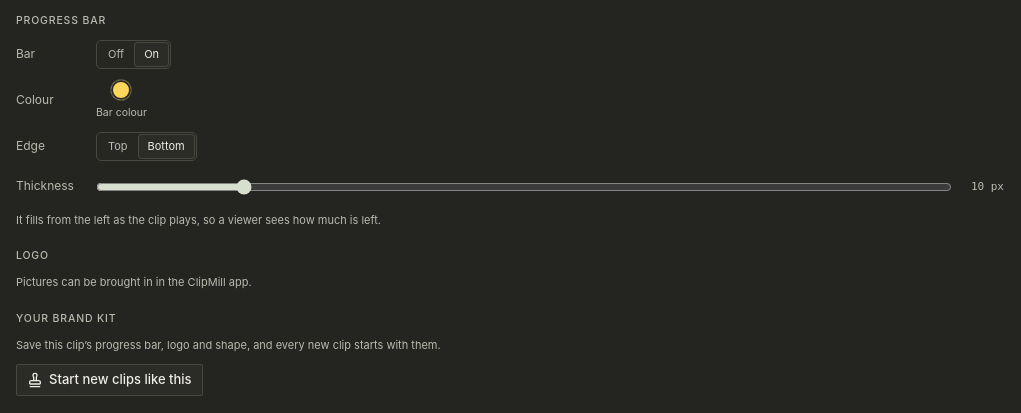
it: the Brand tab › saves the clip’s brand and shape as the kit for new clips
Click the button "Start new clips like this" at (109, 380), box left=16, top=364, right=203, bottom=396
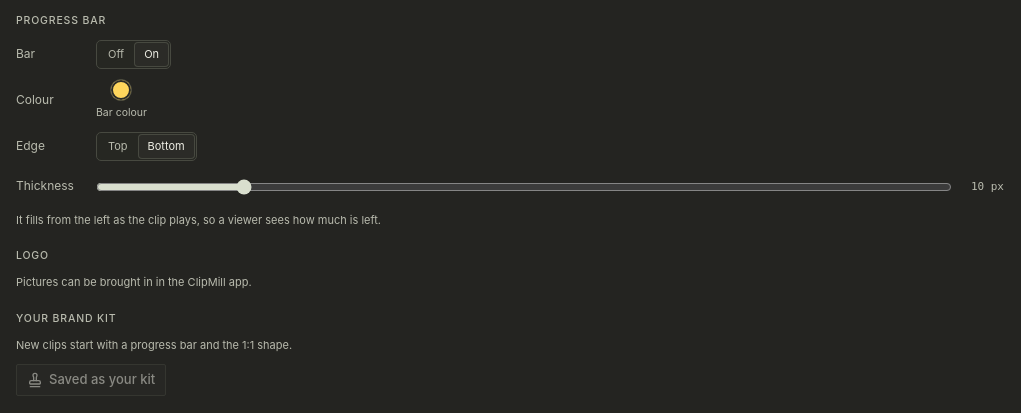
Expected: the text "New clips start with a progress bar and the 1:1 shape." is shown, left=16, top=338, right=292, bottom=352
